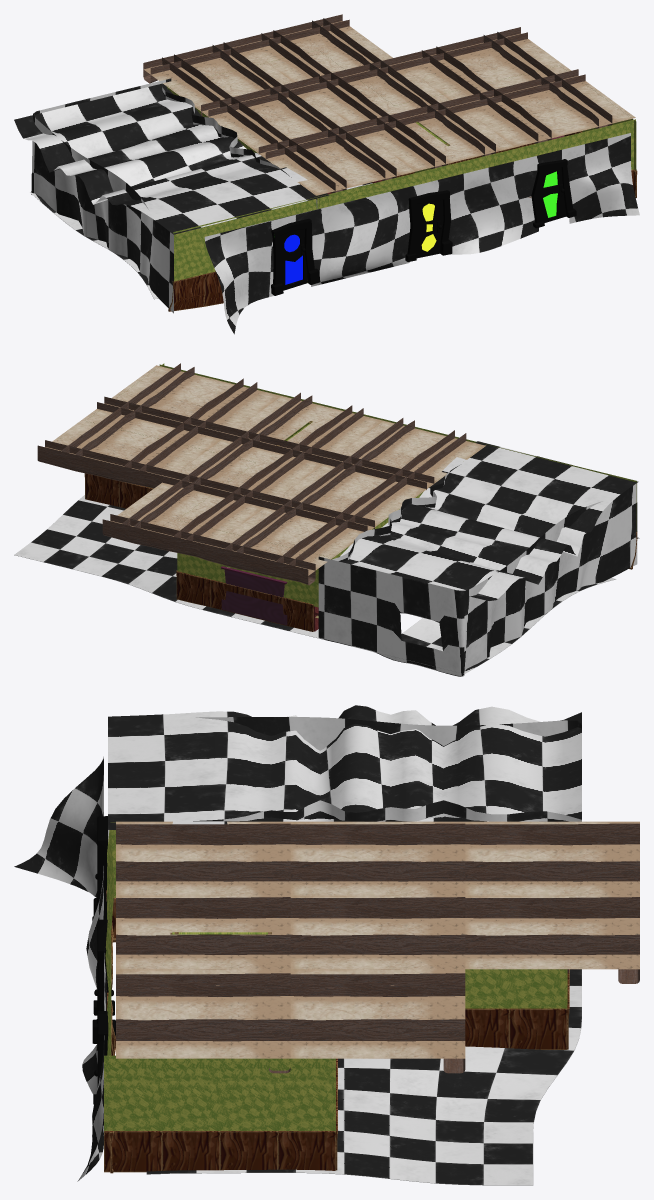
File: Branch_room_2.fbx
3 views of the same model, one above another, from view 1: azimuth 30°, elevation 25°; view 2: azimuth 150°, elevation 25°; view 3: azimuth 270°, elevation 25° (orthographic). The views are drawn at different scales.
Visible parts, largest first — view 1: main, door9, door10, door; view 2: main; view 3: main.
Boxes of the visible parts, left/top/right/bottom form: main: left=14, top=14, right=639, bottom=334; door9: left=415, top=200, right=443, bottom=258; door10: left=280, top=229, right=307, bottom=290; door: left=539, top=167, right=566, bottom=222; main: left=14, top=363, right=639, bottom=676; main: left=14, top=705, right=639, bottom=1185.
Size of the model in its own units: 3328 by 625 by 2480.
